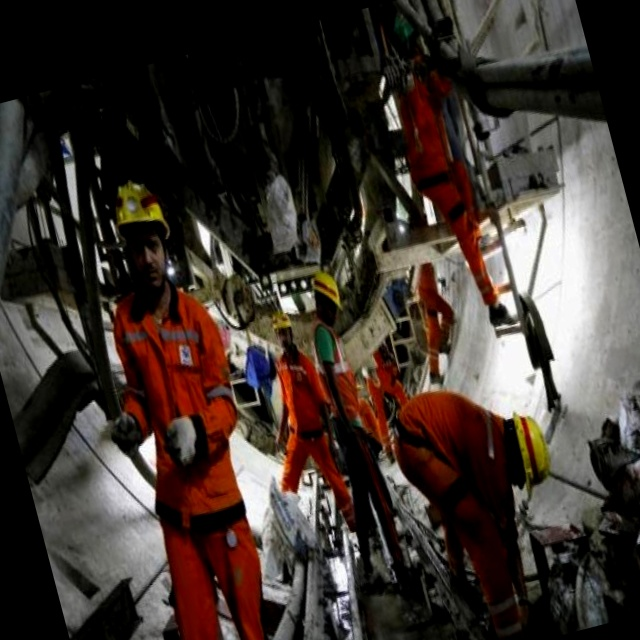Con_Casco: (104, 171, 182, 290), (497, 408, 559, 501), (308, 267, 349, 327)
